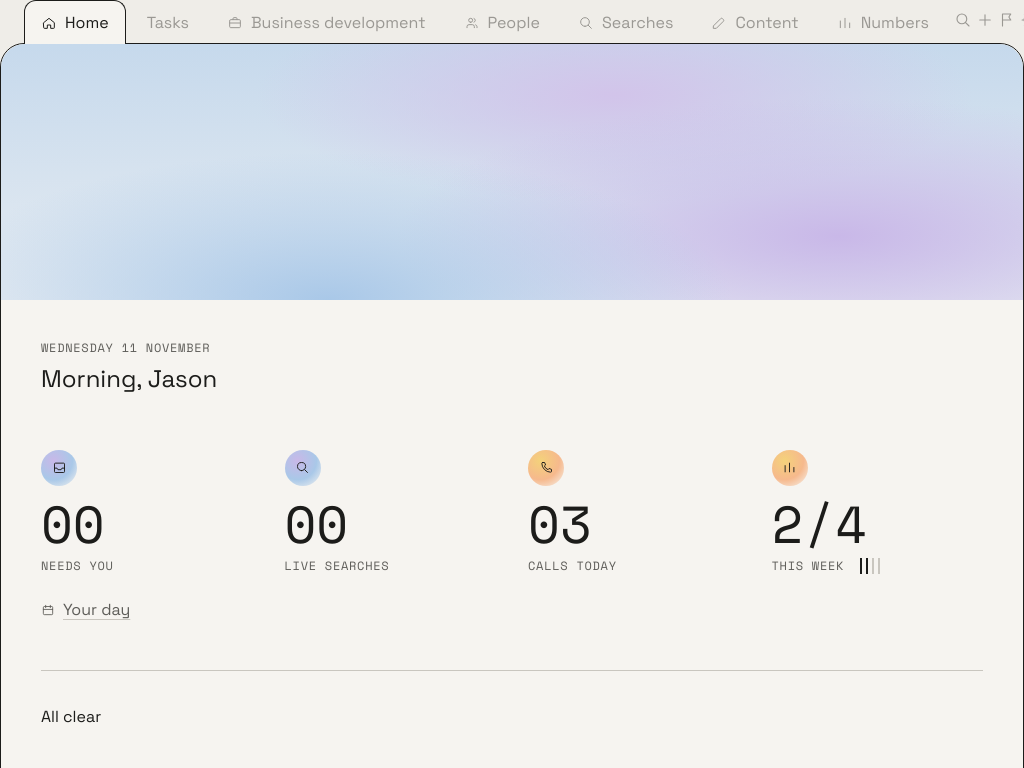
Test: Home › P1-32 Calls today opens a card of the calls with UK and US Eastern times, and Prep opens the prep card
Click the button "03 Calls today". click: (634, 512)
box: left=512, top=434, right=756, bottom=590
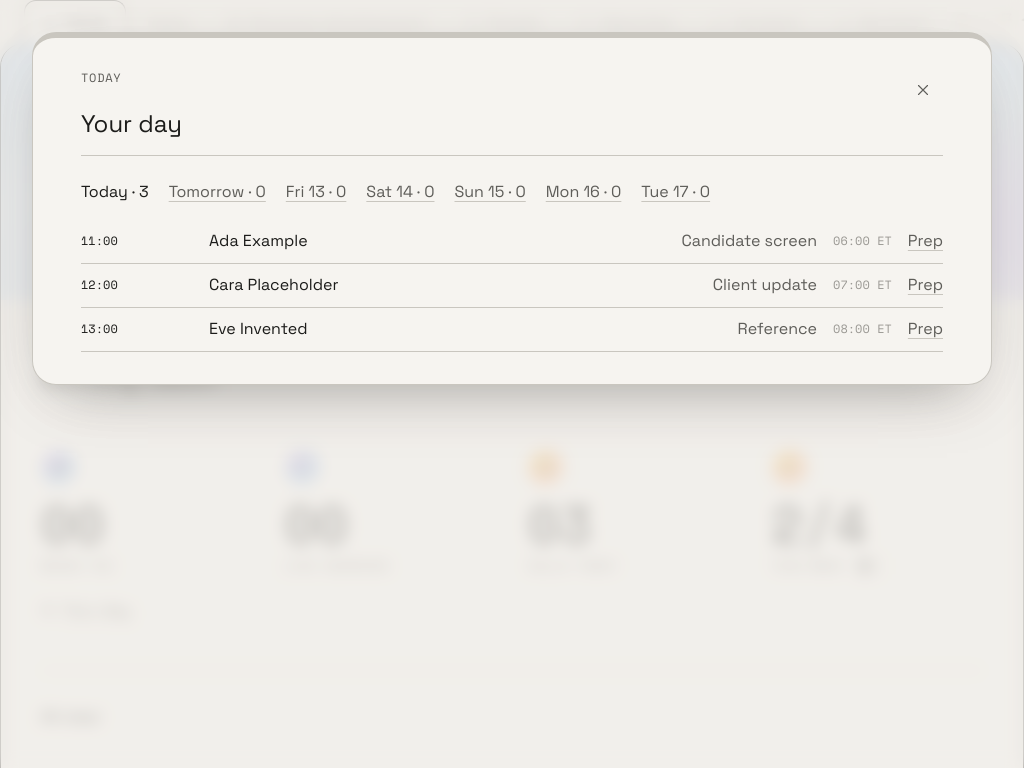
Expected: the number of list items is 3, left=81, top=220, right=943, bottom=264; left=81, top=264, right=943, bottom=308; left=81, top=308, right=943, bottom=352
Expected: the list item "11:00 Ada Example Candidate screen 06:00 ET Prep" is shown, left=81, top=220, right=943, bottom=264
Expected: the list item "12:00 Cara Placeholder Client update 07:00 ET Prep" is shown, left=81, top=264, right=943, bottom=308
Click the button "Prep" in the row of "12:00". click: (925, 285)
box: left=908, top=265, right=943, bottom=305
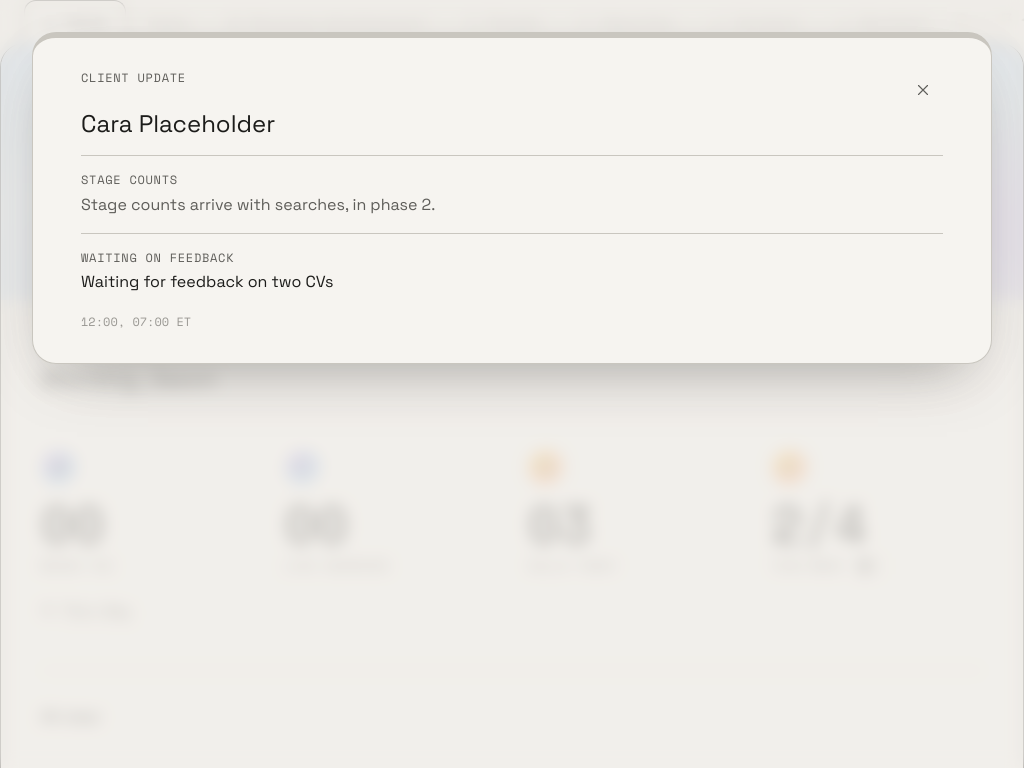
Expected: the heading "Waiting on feedback" is shown, left=81, top=249, right=234, bottom=266
Expected: the list item "Waiting for feedback on two CVs" is shown, left=81, top=271, right=334, bottom=292
Expected: the text "12:00, 07:00 ET" is shown, left=81, top=313, right=191, bottom=330
